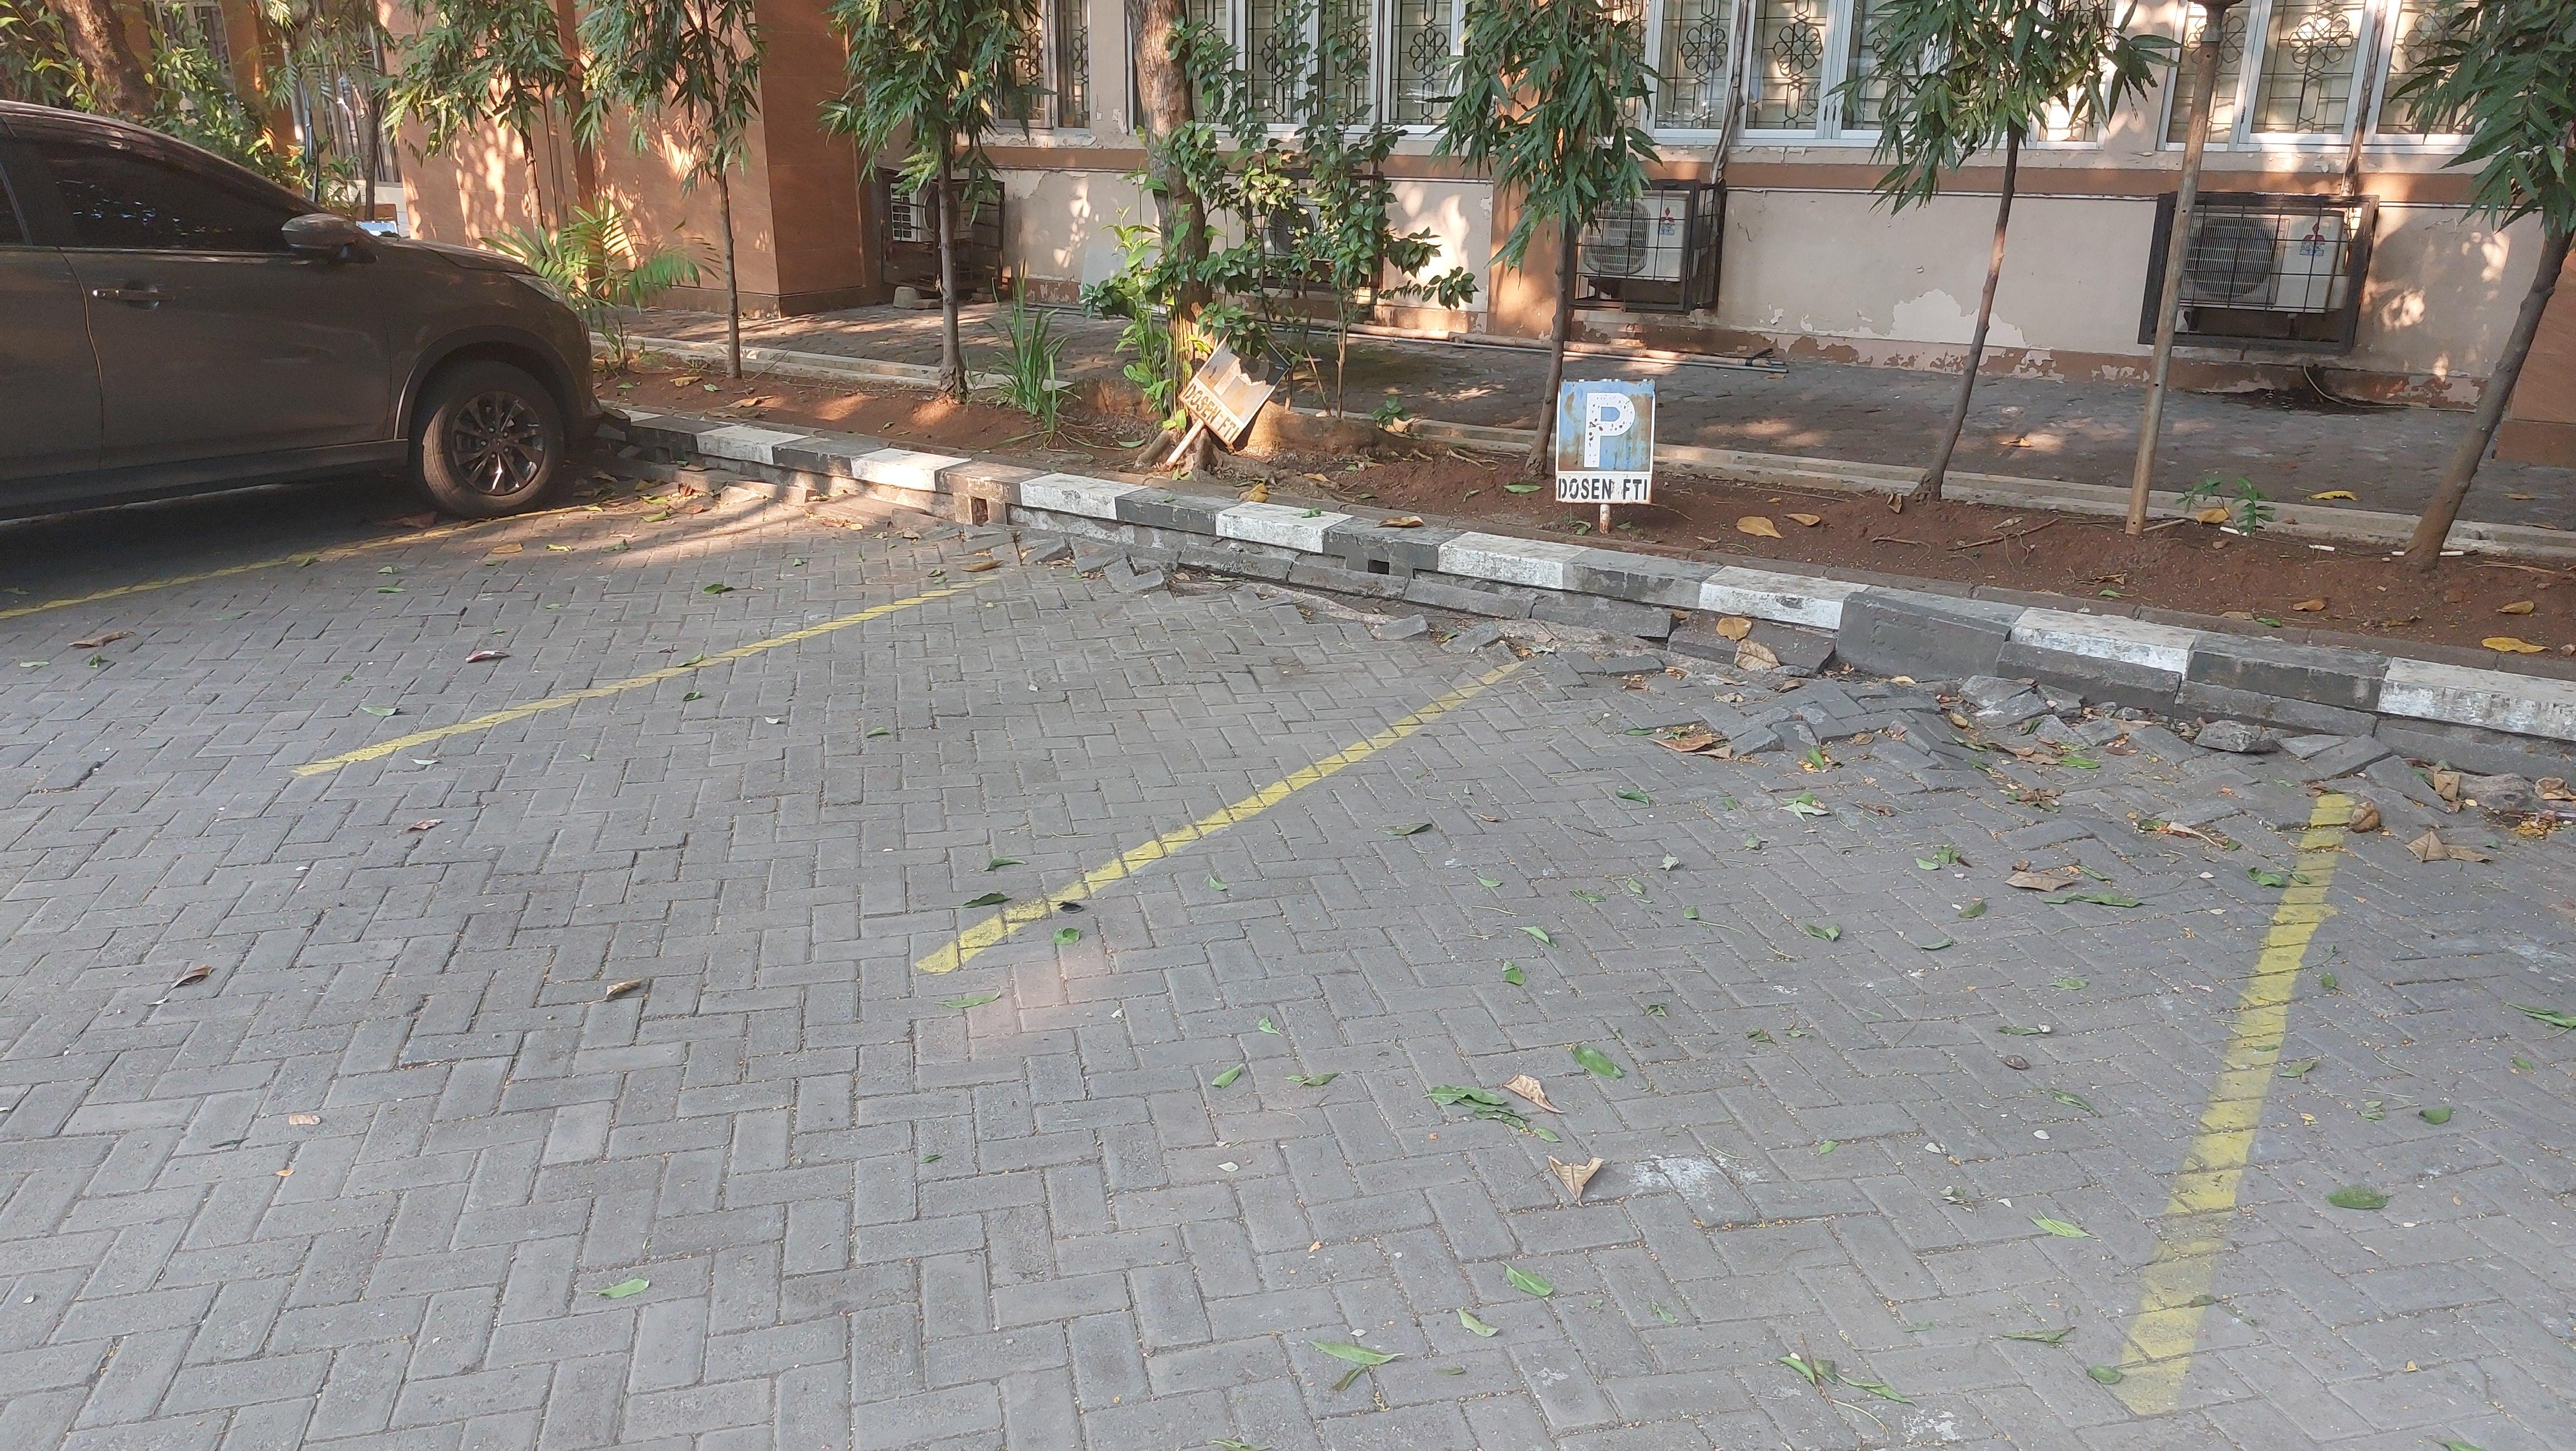empty: (938, 625, 2351, 1379), (309, 545, 1577, 966), (1, 480, 1075, 772)
